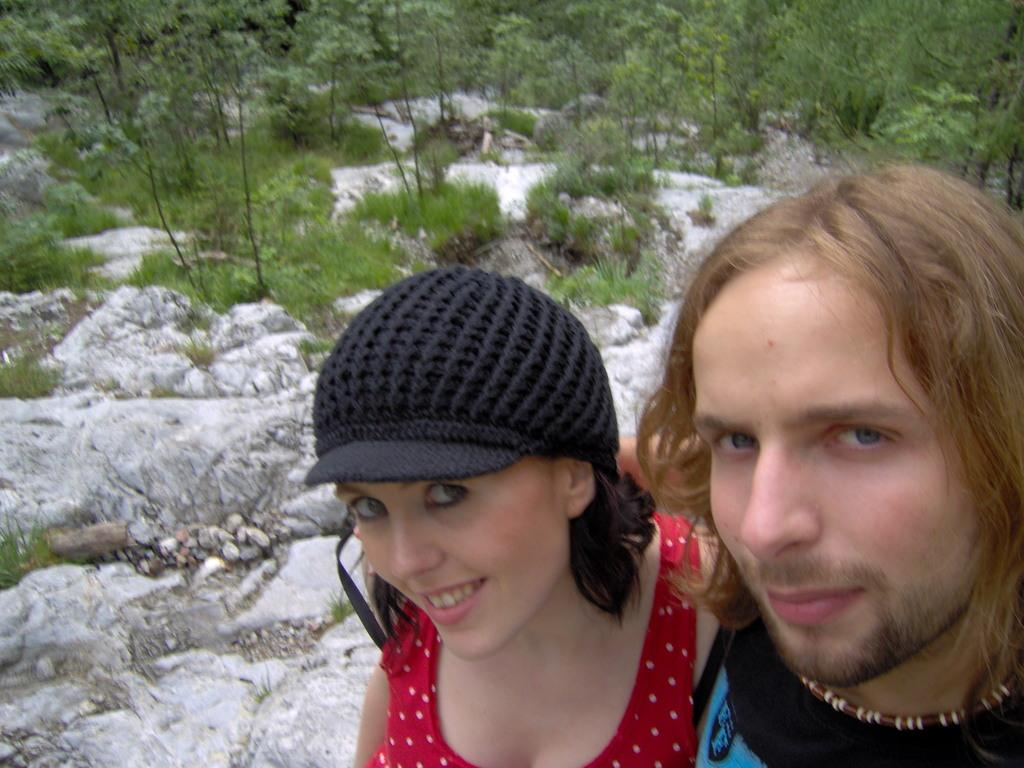Hat: (302, 262, 620, 479)
